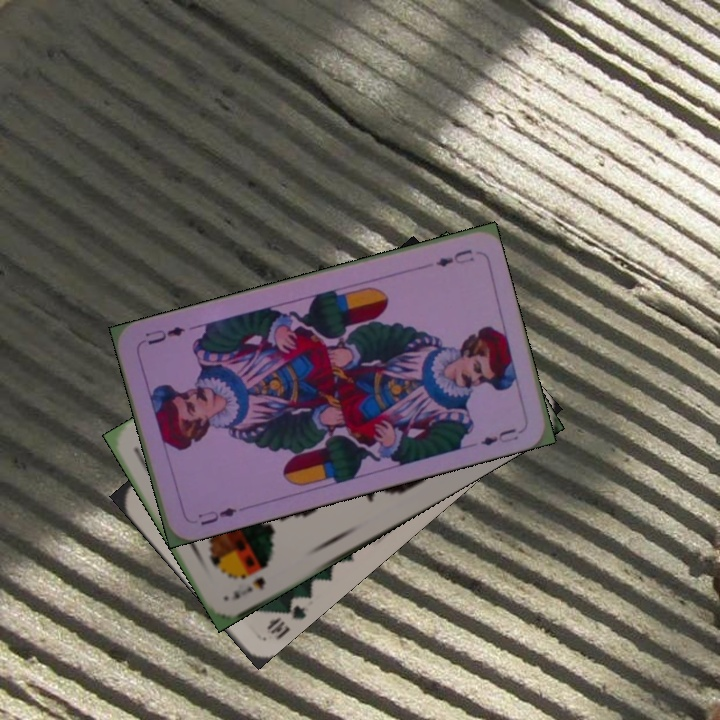EU: (431, 245, 477, 270), (194, 503, 239, 528)
G10: (262, 592, 309, 642)
SO: (228, 572, 268, 602)
